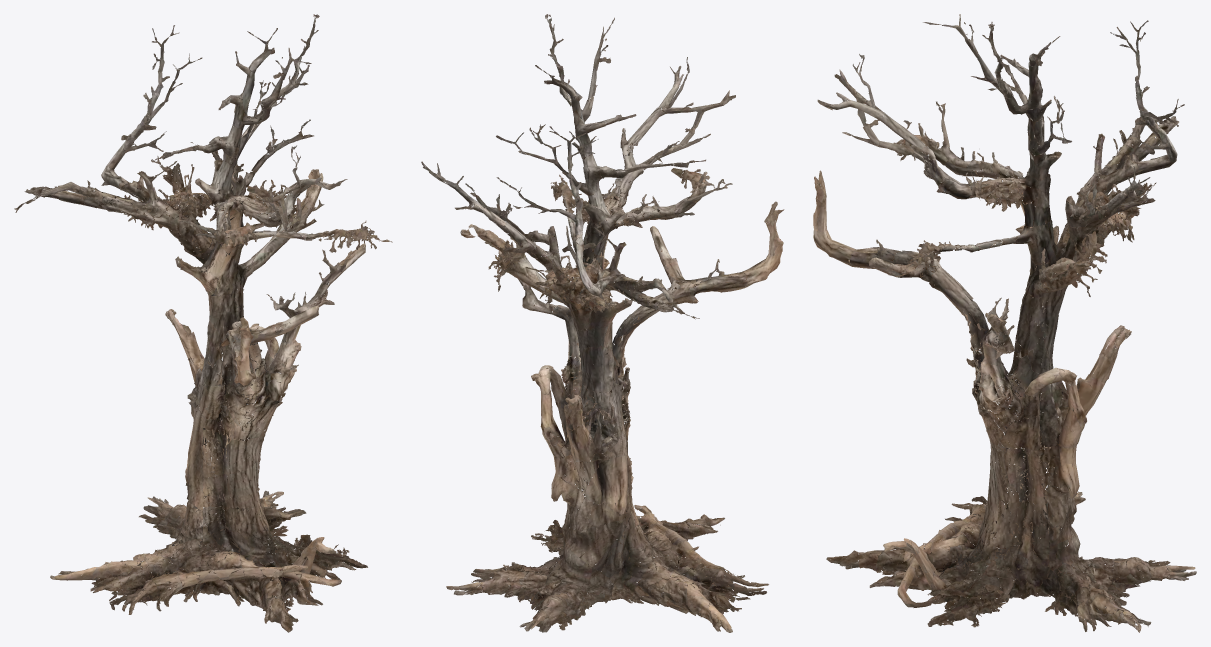
File: tree-gnarled.glb
3 views of the same model, side by side, from view 1: azimuth 30°, elevation 25°; view 2: azimuth 150°, elevation 25°; view 3: azimuth 270°, elevation 25° (orthographic). The views are drawn at different scales.
Visible parts, largest first — view 1: tree-gnarled; view 2: tree-gnarled; view 3: tree-gnarled.
Part boxes in pixels (left/top/right/bottom): tree-gnarled: left=14, top=14, right=392, bottom=632; tree-gnarled: left=421, top=14, right=784, bottom=632; tree-gnarled: left=813, top=14, right=1196, bottom=632.
Bounding box in the file's own units: 6.69 × 12.02 × 7.03.
Materials: 1 (1 with a texture image).
